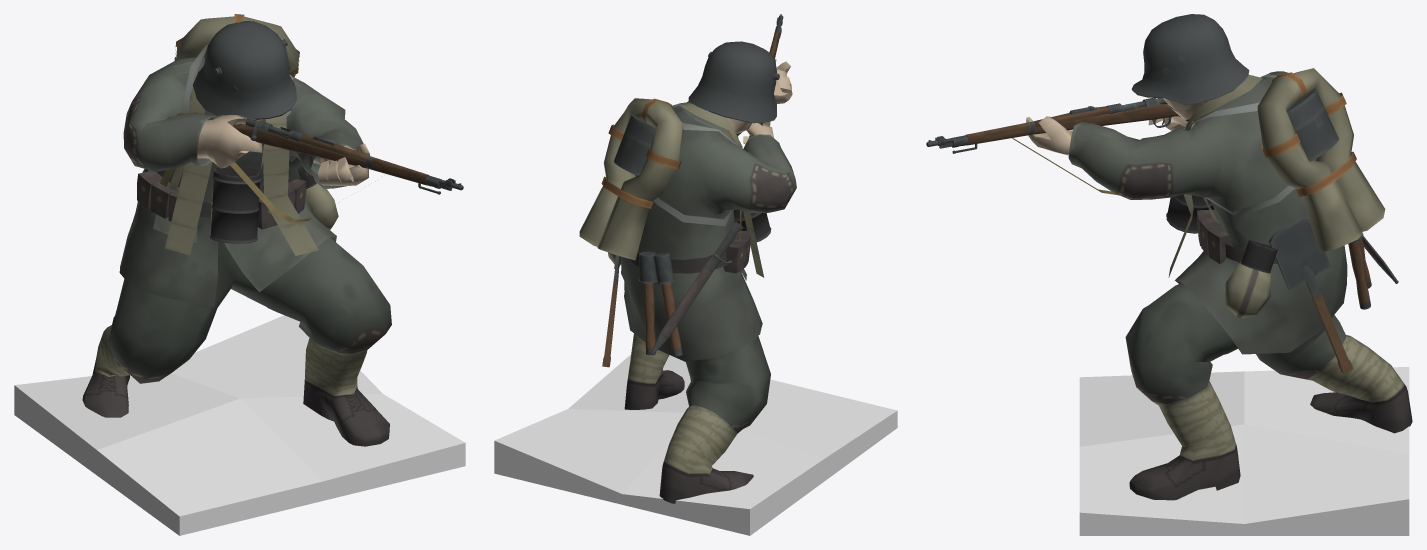
The model's file is Schafer.fbx.
3 views of the same model, side by side, from view 1: azimuth 30°, elevation 25°; view 2: azimuth 150°, elevation 25°; view 3: azimuth 270°, elevation 25° (orthographic). The views are drawn at different scales.
Visible parts, largest first — view 1: Cube.430, Plane.087; view 2: Cube.430, Plane.087; view 3: Cube.430, Plane.087.
Boxes of the visible parts, left/top/right/bottom form: Cube.430: left=82, top=14, right=463, bottom=446; Plane.087: left=14, top=315, right=465, bottom=535; Cube.430: left=579, top=14, right=796, bottom=503; Plane.087: left=494, top=354, right=897, bottom=535; Cube.430: left=926, top=14, right=1412, bottom=500; Plane.087: left=1079, top=367, right=1409, bottom=535.
Bounding box in the file's own units: 100 × 146 × 148.
